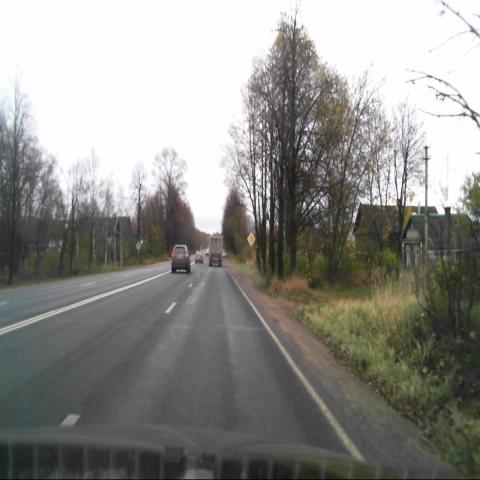2_1: (246, 232, 255, 246)
